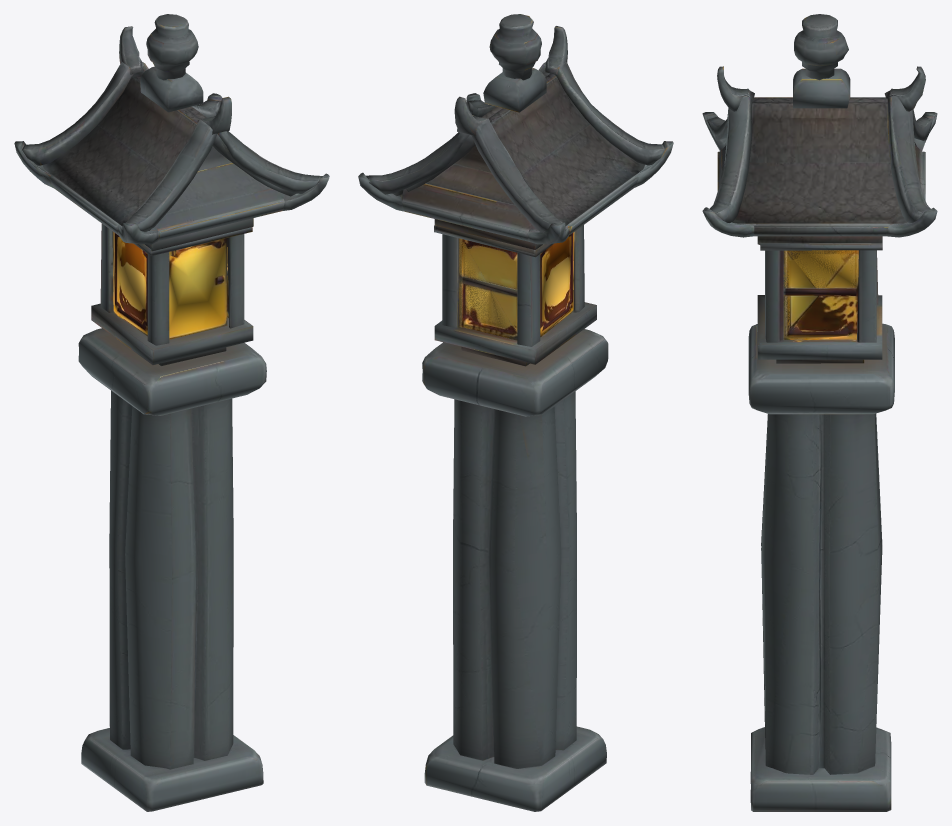
The model's file is stoneLantern.glb.
3 views of the same model, side by side, from view 1: azimuth 30°, elevation 25°; view 2: azimuth 150°, elevation 25°; view 3: azimuth 270°, elevation 25° (orthographic).
Size of the model in its own units: 0.2691 by 0.9517 by 0.2661.
1 material, 1 textured.
